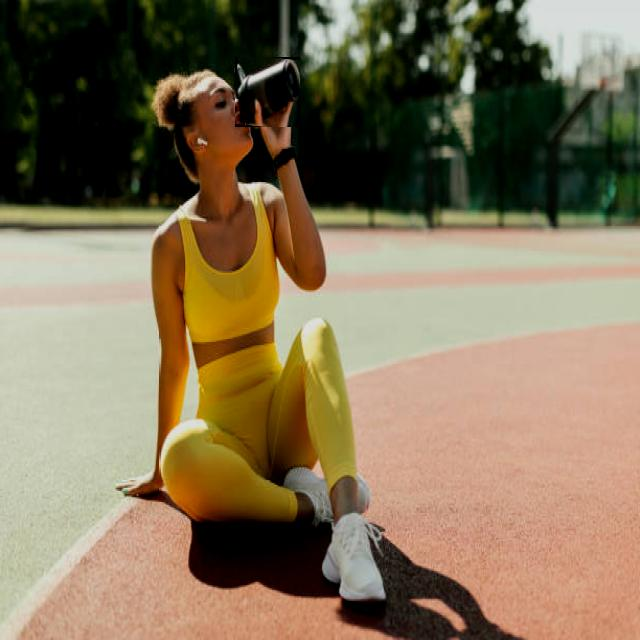Bottle: (235, 57, 299, 127)
